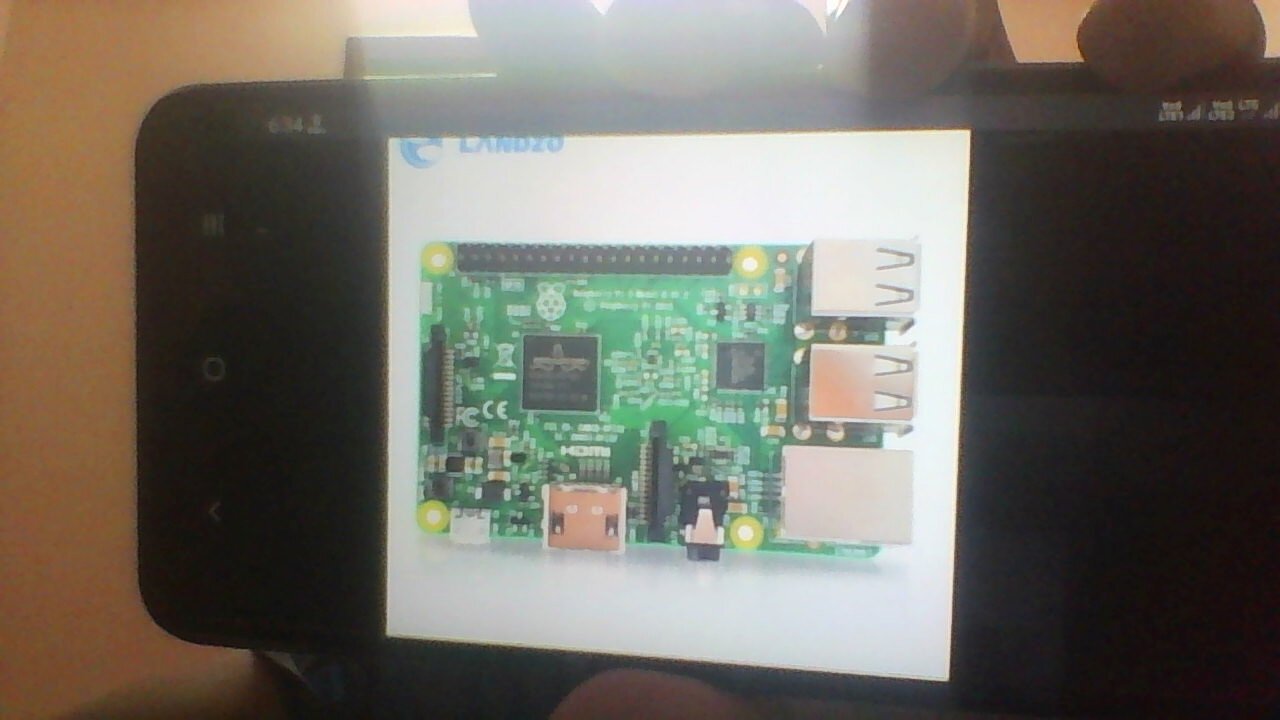aud: (680, 473, 729, 562)
eth: (779, 442, 917, 547)
usb: (797, 236, 925, 330), (801, 349, 920, 432)
